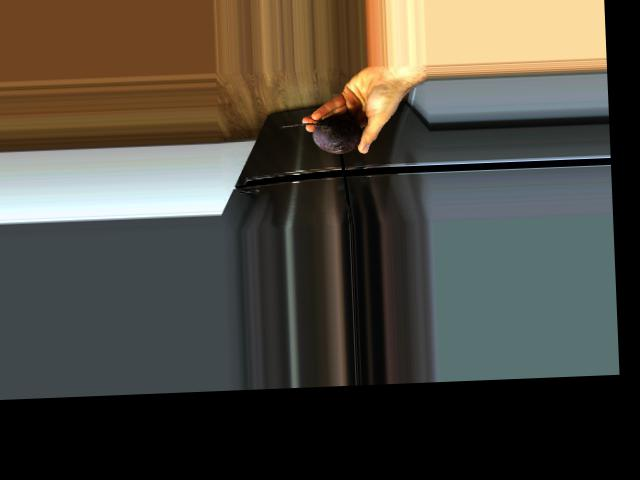beet: (279, 115, 362, 156)
